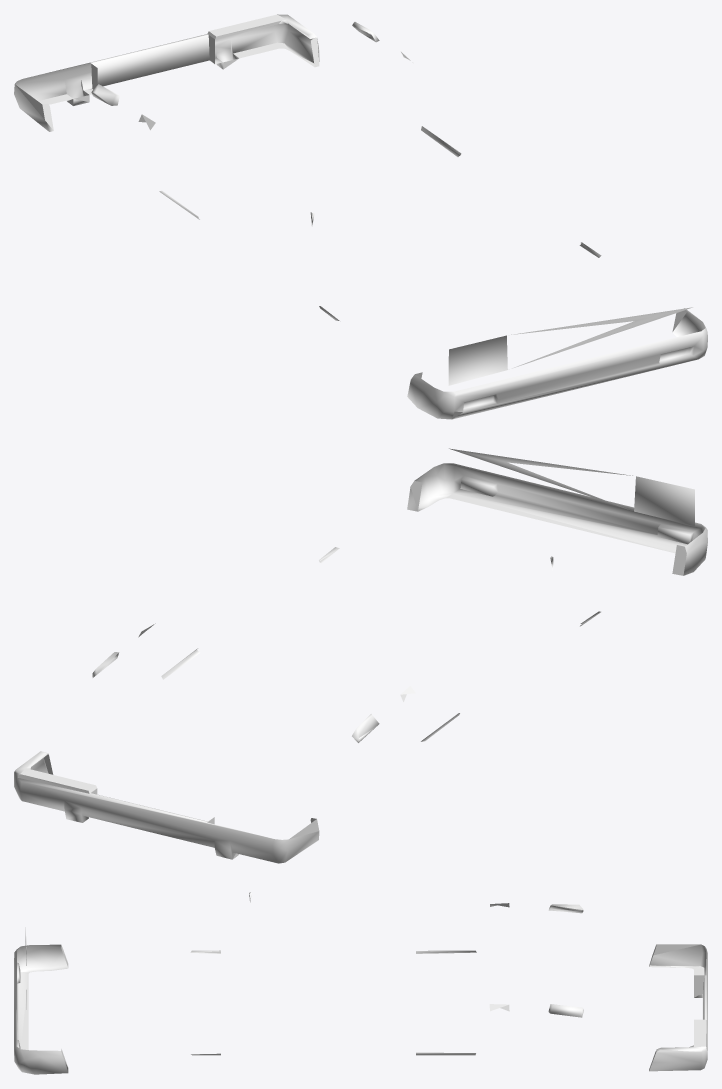
The picture shows the model from 3 angles, top to bottom: view 1: azimuth 30°, elevation 25°; view 2: azimuth 150°, elevation 25°; view 3: azimuth 270°, elevation 25°; orthographic projection. The views are drawn at different scales.
Size of the model in its own units: 1.54 by 0.5588 by 4.16.
1 material, 1 textured.
